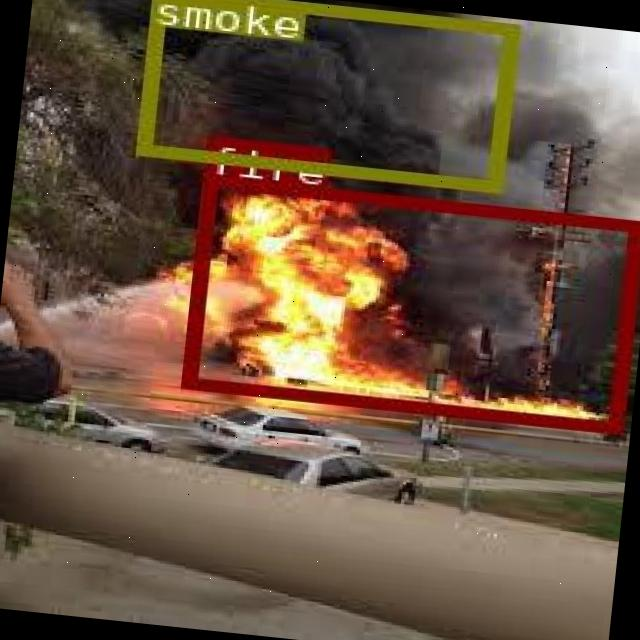fire: (180, 173, 640, 430)
smoke: (134, 0, 517, 189)
